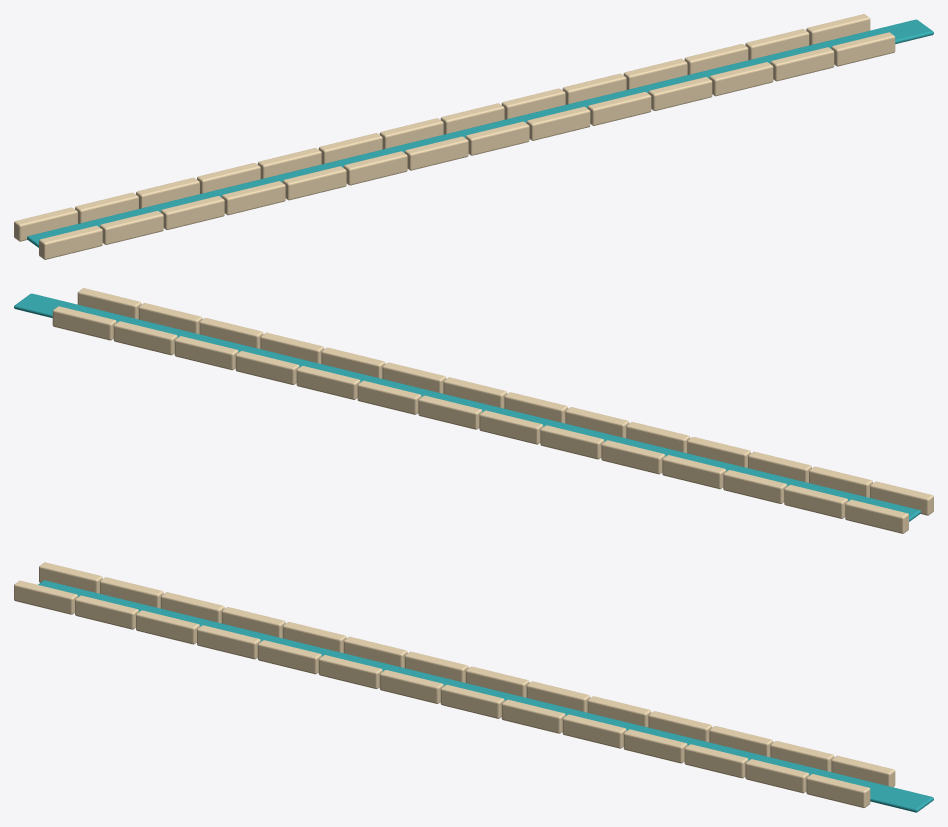
File: SM_OasisIrrigationChannel.fbx
3 renders of one model, top to bottom at view 1: azimuth 30°, elevation 25°; view 2: azimuth 150°, elevation 25°; view 3: azimuth 330°, elevation 25°, orthographic.
Parts seen in each view (by area): view 1: SM_OasisIrrigationChannel_Export; view 2: SM_OasisIrrigationChannel_Export; view 3: SM_OasisIrrigationChannel_Export.
Boxes of the visible parts, bbox=[...] form: SM_OasisIrrigationChannel_Export: bbox=[14, 14, 933, 259]; SM_OasisIrrigationChannel_Export: bbox=[14, 288, 933, 533]; SM_OasisIrrigationChannel_Export: bbox=[14, 562, 933, 812].
Size of the model in its own units: 1913 by 115 by 35.
